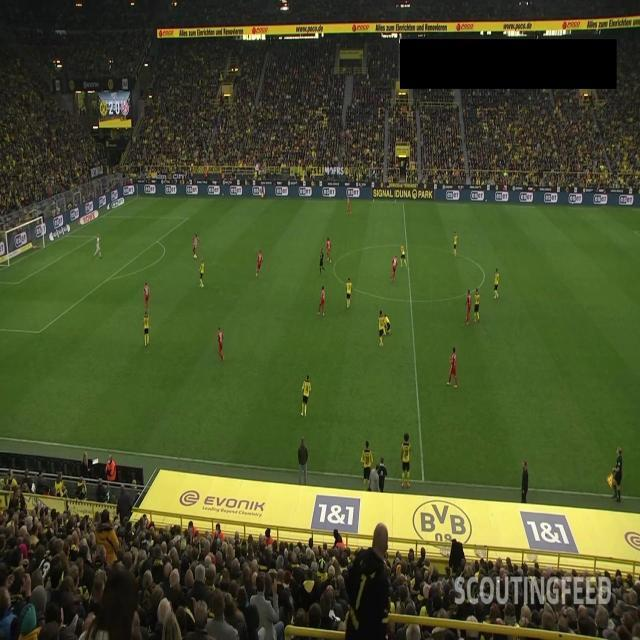arbitro: (318, 249, 326, 273)
football: (195, 255, 198, 260)
goleiro: (93, 235, 103, 259)
jogador: (300, 375, 312, 416), (139, 313, 154, 345), (449, 344, 459, 384), (215, 324, 226, 355), (196, 262, 208, 290), (378, 311, 387, 347), (141, 281, 152, 309), (318, 285, 328, 314), (472, 288, 480, 322), (254, 250, 264, 276), (345, 278, 353, 309), (492, 269, 500, 299), (465, 287, 472, 321), (390, 254, 398, 282), (191, 234, 199, 258), (325, 237, 332, 262), (452, 232, 459, 256), (400, 244, 407, 268), (384, 312, 392, 333), (346, 194, 354, 214)
